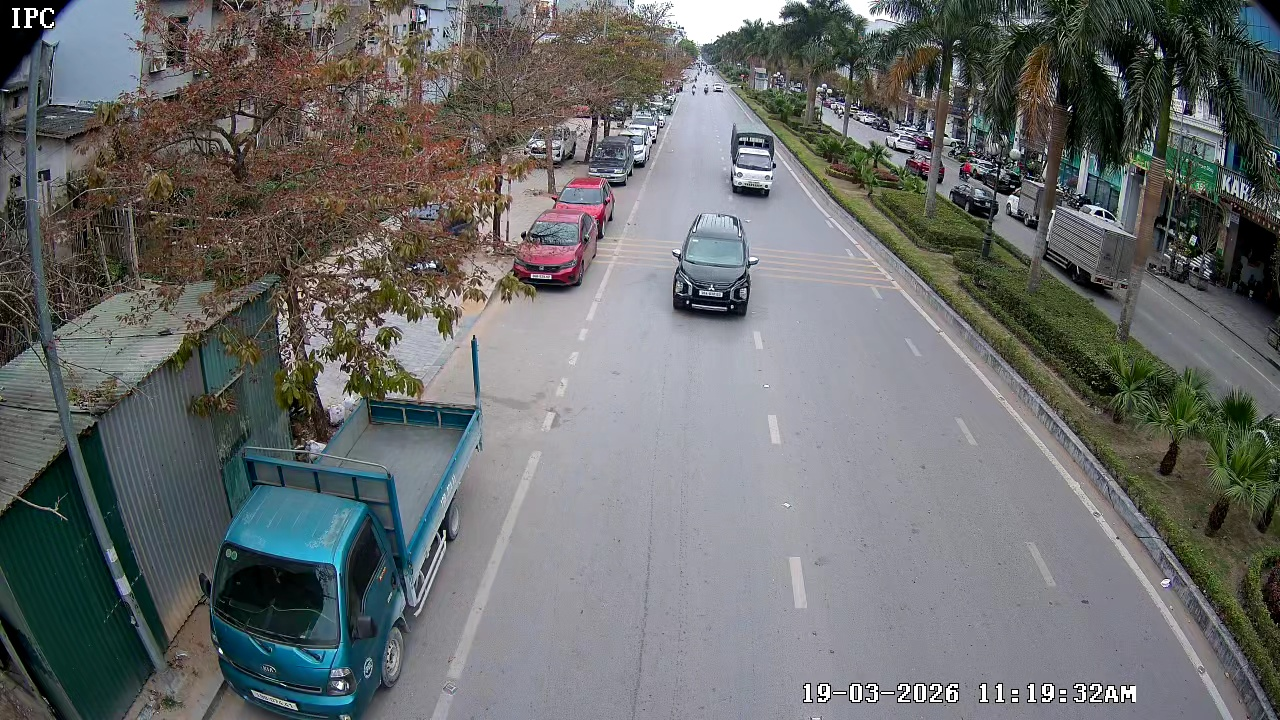car: (670, 212, 759, 315), (513, 209, 592, 289), (554, 176, 614, 239), (583, 130, 636, 192)
truck: (729, 125, 777, 197)
